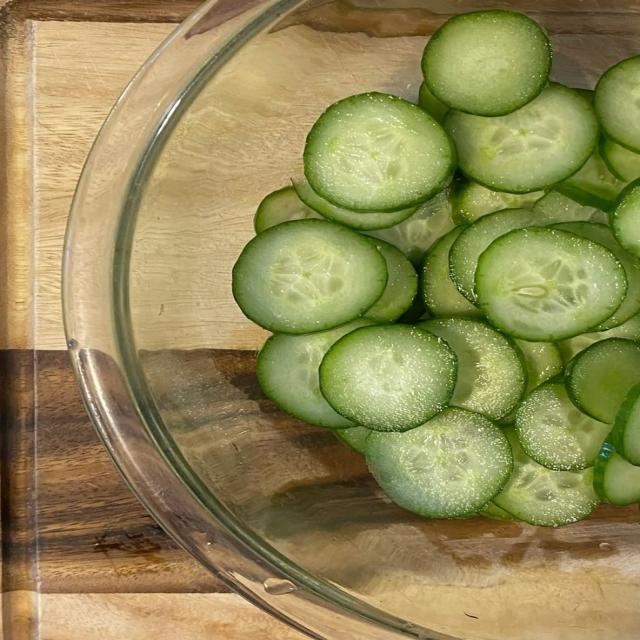cucumber sliced: (304, 93, 454, 211), (233, 220, 386, 334), (476, 228, 626, 341), (446, 84, 599, 193), (367, 408, 512, 518), (320, 325, 457, 431), (422, 10, 552, 116), (257, 320, 373, 429), (418, 318, 526, 419), (494, 428, 599, 526), (554, 222, 639, 330), (450, 209, 544, 303), (515, 380, 609, 470), (367, 189, 455, 267), (567, 338, 639, 424), (294, 180, 417, 230), (421, 228, 481, 316), (365, 239, 418, 323), (555, 149, 626, 211), (594, 56, 639, 152), (558, 316, 639, 362), (457, 183, 544, 223), (254, 187, 322, 233), (594, 443, 639, 505), (514, 340, 564, 390), (534, 191, 607, 223), (611, 384, 639, 465), (612, 179, 639, 257), (600, 138, 639, 182), (419, 83, 449, 123), (335, 427, 371, 454), (397, 295, 429, 324), (479, 502, 517, 520), (572, 88, 594, 103)
